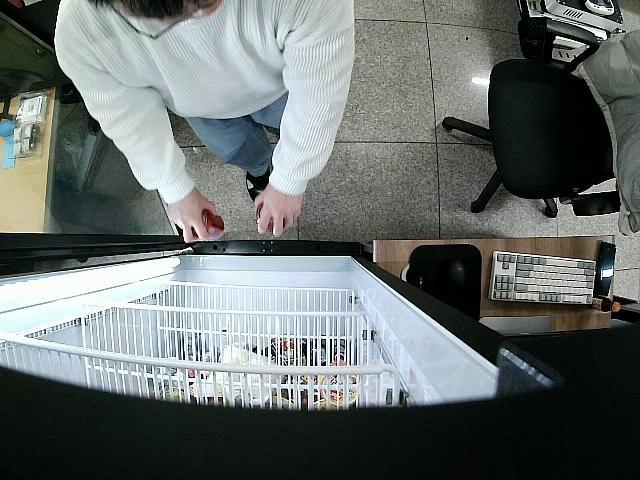11_cocaColaZero: (190, 208, 224, 240), (257, 203, 285, 232)
